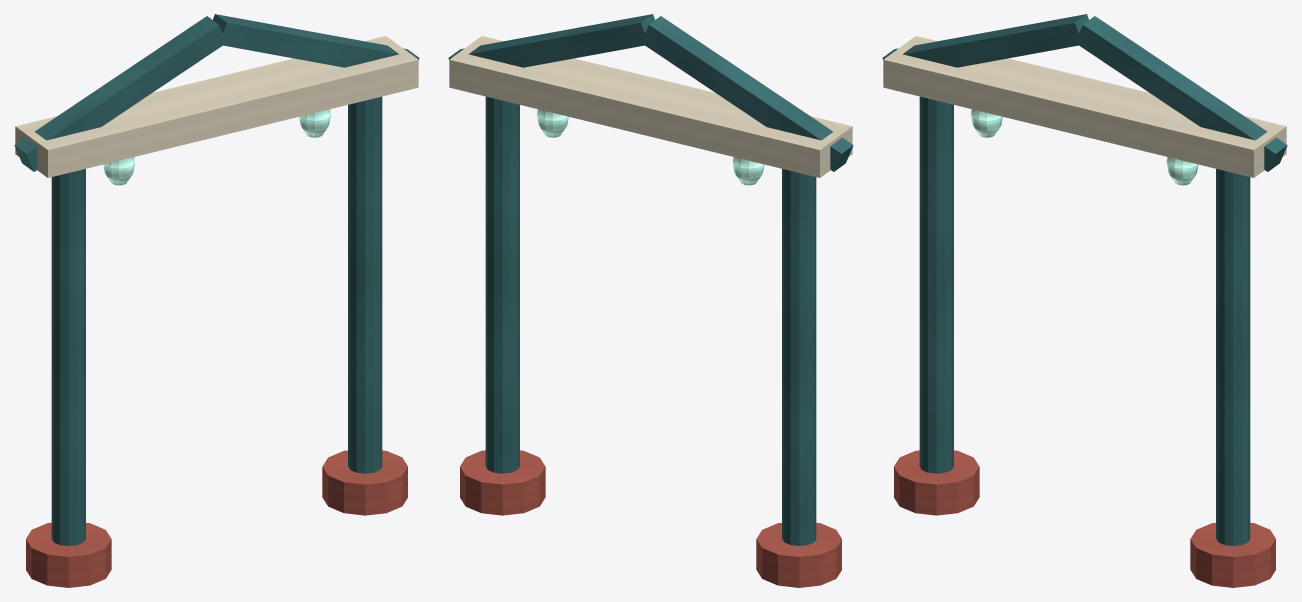
Rendered from atlas100-s031-a09.glb.
3 views of the same model, side by side, from view 1: azimuth 30°, elevation 25°; view 2: azimuth 150°, elevation 25°; view 3: azimuth 330°, elevation 25° (orthographic).
Visible parts, largest first — view 1: atlas100-s031-a09:part-004, atlas100-s031-a09:part-002, atlas100-s031-a09:part-000, atlas100-s031-a09:part-005, atlas100-s031-a09:part-006, atlas100-s031-a09:part-003, atlas100-s031-a09:part-001, atlas100-s031-a09:part-008, atlas100-s031-a09:part-007; view 2: atlas100-s031-a09:part-004, atlas100-s031-a09:part-002, atlas100-s031-a09:part-000, atlas100-s031-a09:part-005, atlas100-s031-a09:part-006, atlas100-s031-a09:part-003, atlas100-s031-a09:part-001, atlas100-s031-a09:part-008, atlas100-s031-a09:part-007; view 3: atlas100-s031-a09:part-004, atlas100-s031-a09:part-000, atlas100-s031-a09:part-002, atlas100-s031-a09:part-006, atlas100-s031-a09:part-005, atlas100-s031-a09:part-001, atlas100-s031-a09:part-003, atlas100-s031-a09:part-007, atlas100-s031-a09:part-008.
Boxes of the visible parts, x1=… form: atlas100-s031-a09:part-004: x1=15, y1=36, x2=418, y2=177; atlas100-s031-a09:part-002: x1=348, y1=96, x2=382, y2=473; atlas100-s031-a09:part-000: x1=51, y1=169, x2=85, y2=545; atlas100-s031-a09:part-005: x1=14, y1=16, x2=226, y2=171; atlas100-s031-a09:part-006: x1=213, y1=14, x2=419, y2=67; atlas100-s031-a09:part-003: x1=322, y1=450, x2=407, y2=515; atlas100-s031-a09:part-001: x1=26, y1=522, x2=111, y2=587; atlas100-s031-a09:part-008: x1=299, y1=109, x2=330, y2=137; atlas100-s031-a09:part-007: x1=103, y1=157, x2=135, y2=185; atlas100-s031-a09:part-004: x1=449, y1=36, x2=852, y2=177; atlas100-s031-a09:part-002: x1=485, y1=96, x2=519, y2=473; atlas100-s031-a09:part-000: x1=782, y1=169, x2=816, y2=545; atlas100-s031-a09:part-005: x1=641, y1=16, x2=853, y2=171; atlas100-s031-a09:part-006: x1=448, y1=14, x2=654, y2=67; atlas100-s031-a09:part-003: x1=460, y1=450, x2=545, y2=515; atlas100-s031-a09:part-001: x1=756, y1=522, x2=841, y2=587; atlas100-s031-a09:part-008: x1=537, y1=109, x2=568, y2=137; atlas100-s031-a09:part-007: x1=732, y1=157, x2=764, y2=185; atlas100-s031-a09:part-004: x1=883, y1=36, x2=1286, y2=177; atlas100-s031-a09:part-000: x1=919, y1=96, x2=953, y2=473; atlas100-s031-a09:part-002: x1=1216, y1=169, x2=1250, y2=545; atlas100-s031-a09:part-006: x1=1075, y1=16, x2=1287, y2=171; atlas100-s031-a09:part-005: x1=882, y1=14, x2=1088, y2=67; atlas100-s031-a09:part-001: x1=894, y1=450, x2=979, y2=515; atlas100-s031-a09:part-003: x1=1190, y1=522, x2=1275, y2=587; atlas100-s031-a09:part-007: x1=971, y1=109, x2=1002, y2=137; atlas100-s031-a09:part-008: x1=1166, y1=157, x2=1198, y2=185.
Size of the model in its own units: 2.65 by 3.31 by 0.5.
4 materials, 4 textured.
